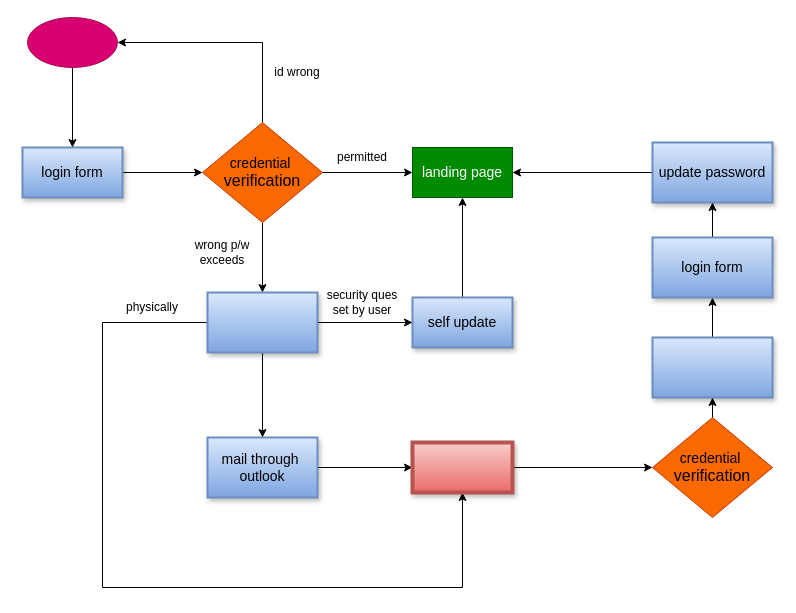
This 796x613 diagram has some shape labels left out. Each missing label, with the centre of its shape:
"ADMIN" belongs at [463,468].
"apply for password rest" belongs at [263,323].
"new password set" belongs at [713,368].
"start" belongs at [72,42].
